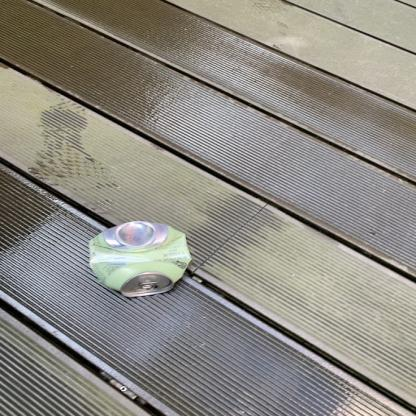trash: (84, 221, 200, 300)
